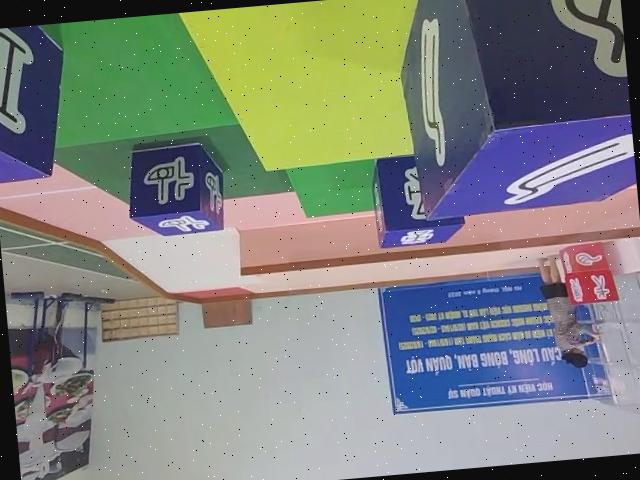R2 Real Blue: (388, 0, 638, 223), (0, 21, 77, 187), (119, 136, 225, 237)
